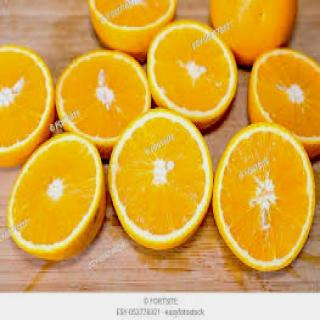orange: (210, 117, 320, 281), (108, 106, 215, 272), (1, 128, 109, 267), (244, 33, 320, 188), (146, 13, 236, 137)
